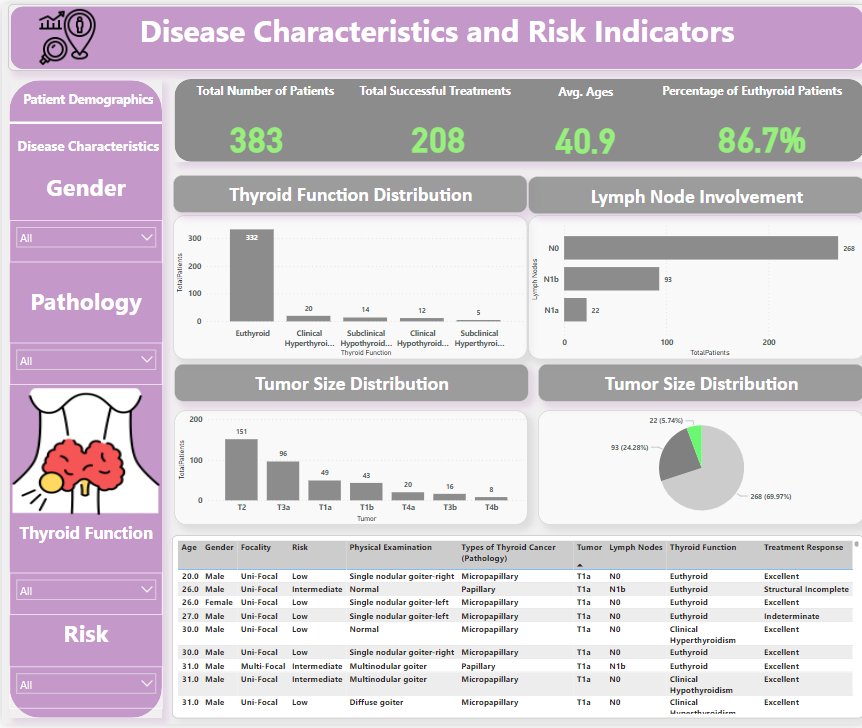

Layout of this report page (visuals, bound fields, positions):
{"tool":"powerbi","page":{"name":"Disease Characteristics and Risk Indicators","canvas":[1380,1153],"ordinal":1},"visuals":[{"type":"shape","box":[11.6,122.8,244,1020],"z":0},{"type":"shape","box":[10,0,1370,106],"z":1000},{"type":"shape","box":[275,119.6,1105,132.5],"z":2000},{"type":"slicer","fields":{"Values":["Thyroid_Disease.Gender"]},"box":[11.9,346.7,245,67.5],"z":3000},{"type":"slicer","fields":{"Values":["Thyroid_Disease.Types of Thyroid Cancer (Pathology)"]},"box":[11.9,541.7,245,67.5],"z":4000},{"type":"slicer","fields":{"Values":["Thyroid_Disease.Thyroid Function"]},"box":[11.9,909.2,245,67.5],"z":5000},{"type":"slicer","fields":{"Values":["Thyroid_Disease.Risk"]},"box":[11.9,1059.2,245,67.5],"z":6000},{"type":"textbox","box":[11.9,261.7,245,65],"z":7000},{"type":"textbox","box":[11.9,444.2,245,65],"z":8000},{"type":"textbox","box":[11.9,821.7,245,65],"z":9000},{"type":"textbox","box":[11.9,976.7,245,65],"z":10000},{"type":"image","box":[11.9,609.2,245,212.5],"z":11000},{"type":"card","fields":{"Values":["Dax Measures.SuccessfulTreatments"]},"box":[589,167.4,219.2,84.6],"z":12000},{"type":"textbox","box":[562.1,119.3,261.5,48.1],"z":13000},{"type":"card","fields":{"Values":["Avg(Thyroid_Disease.Age)"]},"box":[823.7,169.6,219.2,84.6],"z":14000},{"type":"textbox","box":[823.7,121.5,219.2,48.1],"z":15000},{"type":"card","fields":{"Values":["Dax Measures.PercentageEuthyroid"]},"box":[1090,168.5,252.2,84.4],"z":16000},{"type":"textbox","box":[1044,119.6,312,48],"z":17000},{"type":"card","fields":{"Values":["Dax Measures.TotalPatients"]},"box":[298,168.6,219.2,84.6],"z":18000},{"type":"textbox","box":[298,119.6,246,48],"z":19000},{"type":"textbox","box":[12,4,1368,88],"z":20000},{"type":"image","box":[0,0,210,106],"z":21000},{"type":"columnChart","fields":{"Category":["Thyroid_Disease.Thyroid Function"],"Y":["Dax Measures.TotalPatients"]},"box":[273.7,337.7,566.7,230],"z":22000},{"type":"textbox","box":[273.7,274.3,566.7,60],"z":23000},{"type":"clusteredBarChart","fields":{"Category":["Thyroid_Disease.Lymph Nodes"],"Y":["Dax Measures.TotalPatients"]},"box":[841,338,539,230],"z":24000},{"type":"textbox","box":[841.7,275,538.3,60],"z":25000},{"type":"columnChart","fields":{"Category":["Thyroid_Disease.Tumor"],"Y":["Dax Measures.TotalPatients"]},"box":[275,650,565,183.3],"z":26000},{"type":"textbox","box":[275,576.7,566.7,60],"z":27000},{"type":"pieChart","fields":{"Category":["Thyroid_Disease.Lymph Nodes"],"Y":["Dax Measures.TotalPatients"]},"box":[858.3,650,521.7,183.3],"z":28000},{"type":"textbox","box":[858.3,576.7,521.7,60],"z":29000},{"type":"tableEx","fields":{"Values":["Thyroid_Disease.Age","Thyroid_Disease.Gender","Thyroid_Disease.Focality","Thyroid_Disease.Risk","Thyroid_Disease.Physical Examination","Thyroid_Disease.Types of Thyroid Cancer (Pathology)","Thyroid_Disease.Tumor","Thyroid_Disease.Lymph Nodes","Thyroid_Disease.Thyroid Function","Thyroid_Disease.Treatment Response"]},"box":[272.5,850,1107.5,292.5],"z":30000},{"type":"shape","box":[12,128,244,124],"z":32000},{"type":"bookmarkNavigator","box":[0,116,276,146],"z":34000}]}

Visuals, with their boxes in screenshot pixels (x1, y1, x2, y2), scaled from the page's 1380x1153 canvas onto the 862x728 screenshot:
shape: <box>7,78,160,722</box>
shape: <box>6,0,861,67</box>
shape: <box>172,76,861,159</box>
slicer - Thyroid_Disease.Gender: <box>7,219,160,262</box>
slicer - Thyroid_Disease.Types of Thyroid Cancer (Pathology): <box>7,342,160,385</box>
slicer - Thyroid_Disease.Thyroid Function: <box>7,574,160,617</box>
slicer - Thyroid_Disease.Risk: <box>7,669,160,711</box>
textbox: <box>7,165,160,206</box>
textbox: <box>7,280,160,322</box>
textbox: <box>7,519,160,560</box>
textbox: <box>7,617,160,658</box>
image: <box>7,385,160,519</box>
card - Dax Measures.SuccessfulTreatments: <box>368,106,505,159</box>
textbox: <box>351,75,514,106</box>
card - Avg(Thyroid_Disease.Age): <box>515,107,651,161</box>
textbox: <box>515,77,651,107</box>
card - Dax Measures.PercentageEuthyroid: <box>681,106,838,160</box>
textbox: <box>652,76,847,106</box>
card - Dax Measures.TotalPatients: <box>186,106,323,160</box>
textbox: <box>186,76,340,106</box>
textbox: <box>7,3,861,58</box>
image: <box>0,0,131,67</box>
columnChart - Thyroid_Disease.Thyroid Function x Dax Measures.TotalPatients: <box>171,213,525,358</box>
textbox: <box>171,173,525,211</box>
clusteredBarChart - Thyroid_Disease.Lymph Nodes x Dax Measures.TotalPatients: <box>525,213,861,359</box>
textbox: <box>526,174,861,212</box>
columnChart - Thyroid_Disease.Tumor x Dax Measures.TotalPatients: <box>172,410,525,526</box>
textbox: <box>172,364,526,402</box>
pieChart - Thyroid_Disease.Lymph Nodes x Dax Measures.TotalPatients: <box>536,410,861,526</box>
textbox: <box>536,364,861,402</box>
tableEx - Thyroid_Disease.Age x Thyroid_Disease.Gender: <box>170,537,861,721</box>
shape: <box>7,81,160,159</box>
bookmarkNavigator: <box>0,73,172,165</box>
